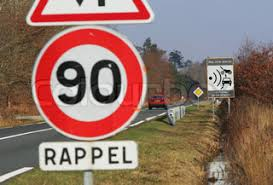Speed_limit_90km: (29, 25, 148, 142)
